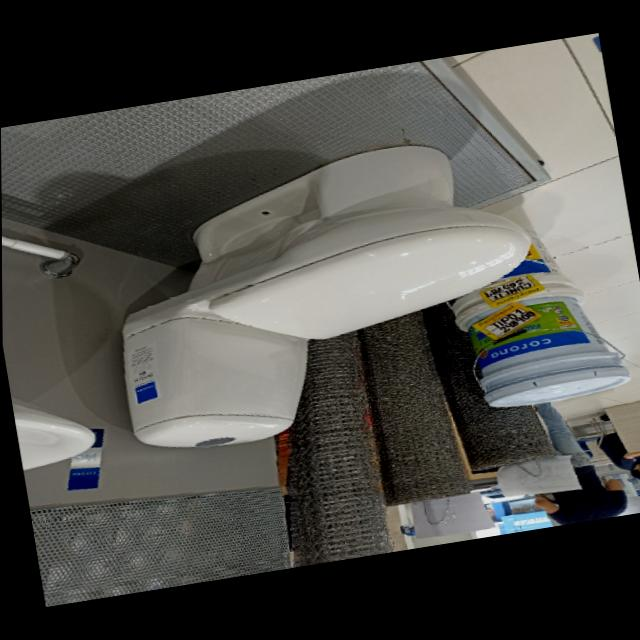toilet: (92, 128, 558, 462)
